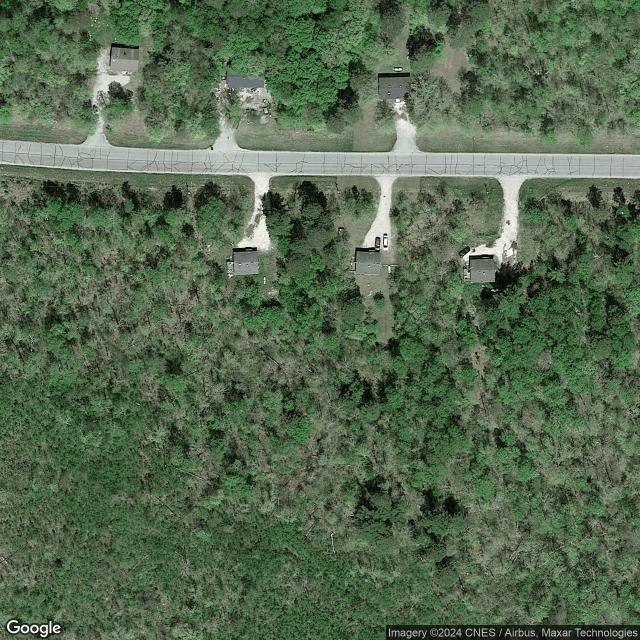Propane: (262, 275, 267, 286), (394, 66, 403, 72), (387, 264, 391, 274), (491, 288, 499, 292)
